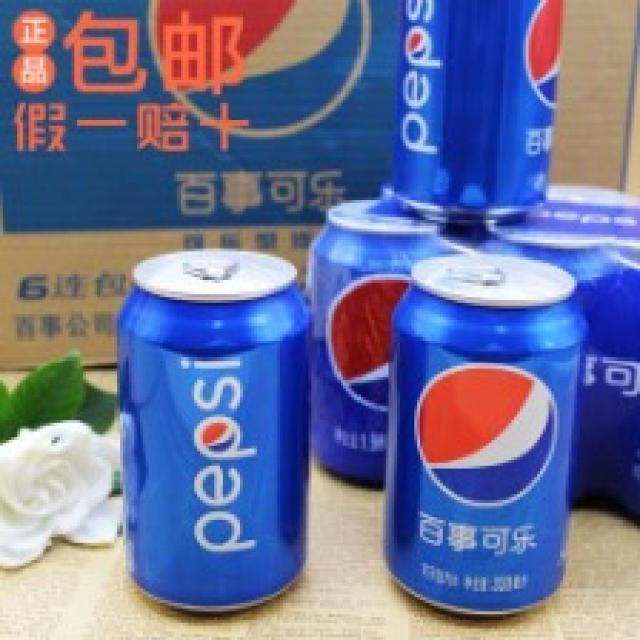cardboard: (4, 6, 349, 216)
metel: (112, 250, 313, 621), (380, 237, 559, 611), (396, 1, 561, 208)
